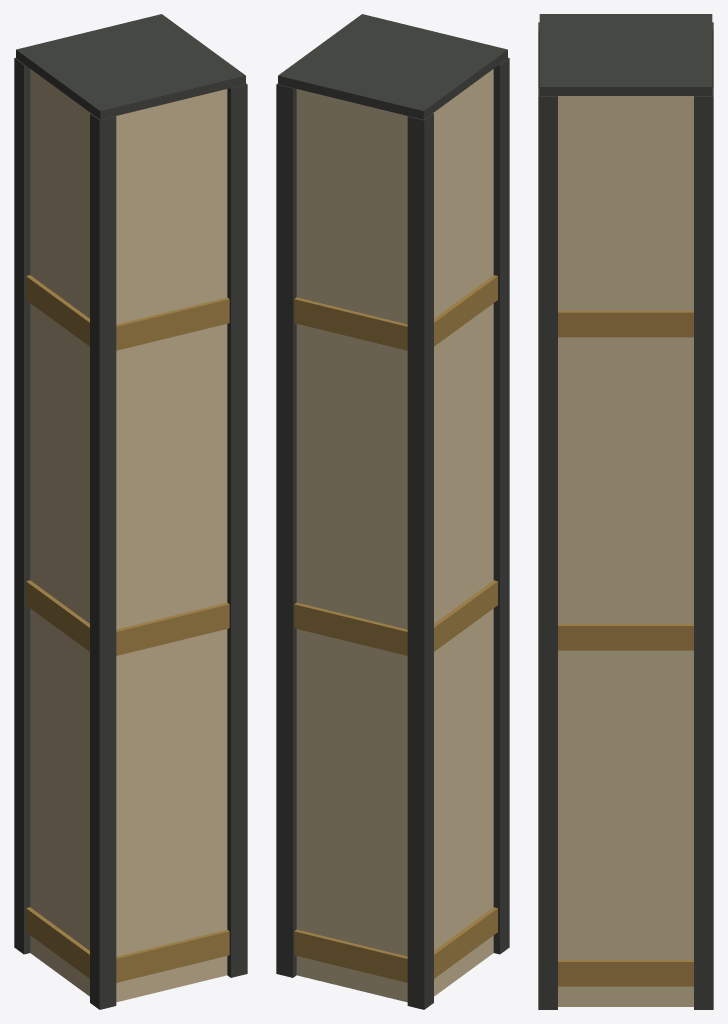
Rendered from parapet_corner.glb.
The picture shows the model from 3 angles, left to right: view 1: azimuth 30°, elevation 25°; view 2: azimuth 150°, elevation 25°; view 3: azimuth 270°, elevation 25°; orthographic projection. The views are drawn at different scales.
Visible parts, largest first — view 1: parapet_corner; view 2: parapet_corner; view 3: parapet_corner.
Boxes of the visible parts, <box> form: parapet_corner: <box>14,14,247,1009</box>; parapet_corner: <box>276,14,509,1009</box>; parapet_corner: <box>538,14,713,1009</box>.
Bounding box in the file's own units: 1.42 × 8.24 × 1.42.
